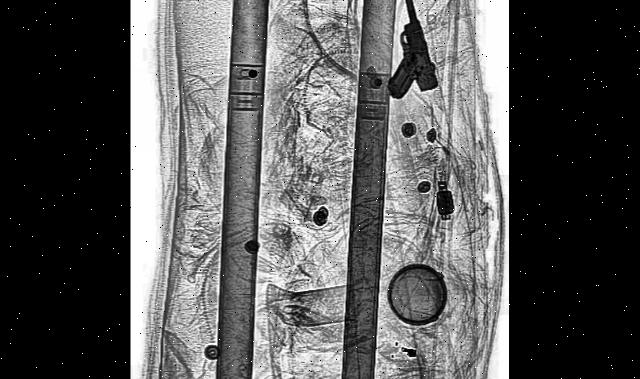Gun: (378, 0, 439, 115)
